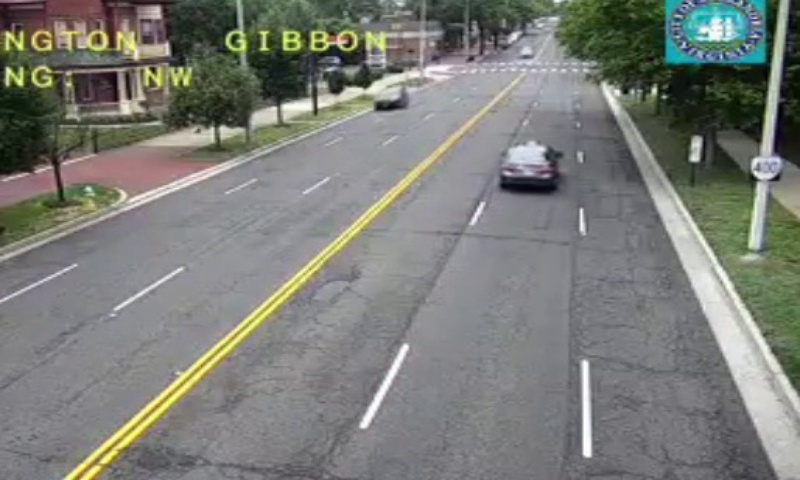car: (501, 145, 555, 185)
